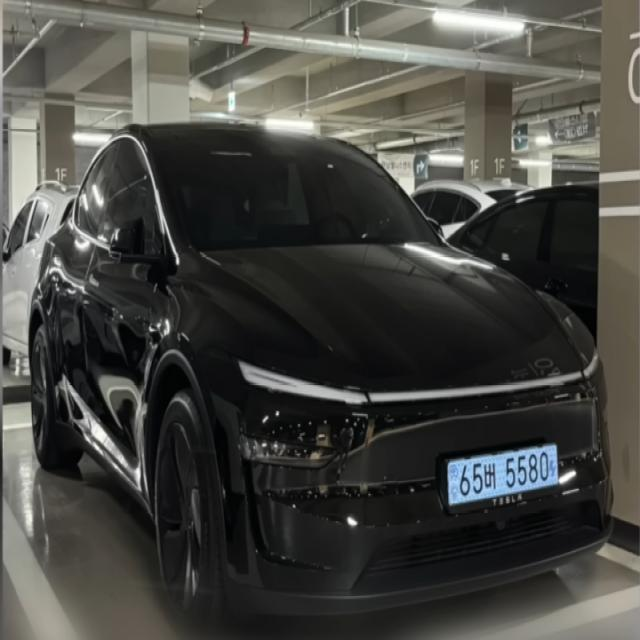car: (423, 423, 571, 523)
carev: (441, 455, 460, 513), (546, 443, 563, 496)
